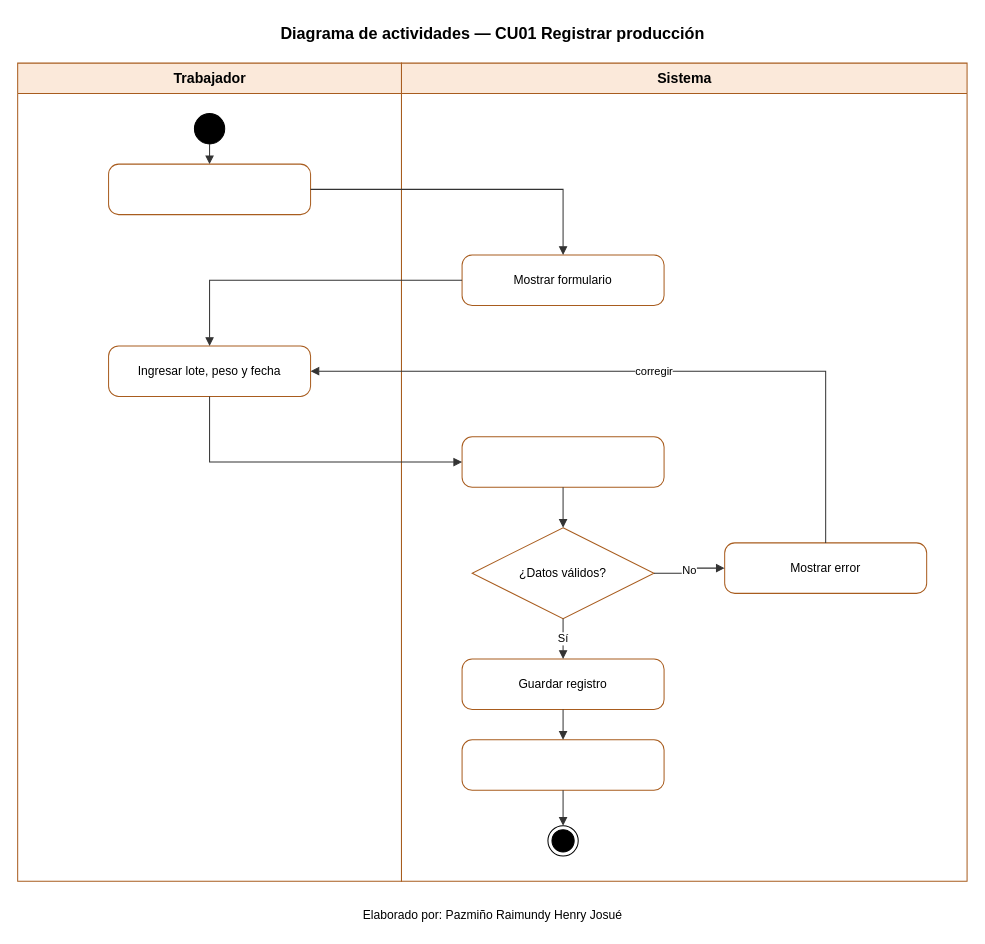
Image size: 985x944. Some labels were removed from this diagram. The shapes that lost their labels are listed below. From the top down, each one's centre as x and y in pixels, then its label:
[209,189]: Elegir «Registrar producción»
[562,461]: Validar datos
[562,764]: Mostrar «Producción registrada»
